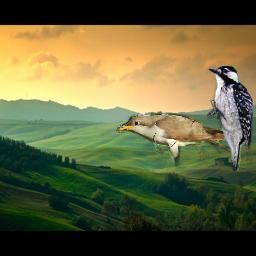Cuckoo: (116, 113, 232, 168)
Woodpecker: (207, 65, 253, 171)
